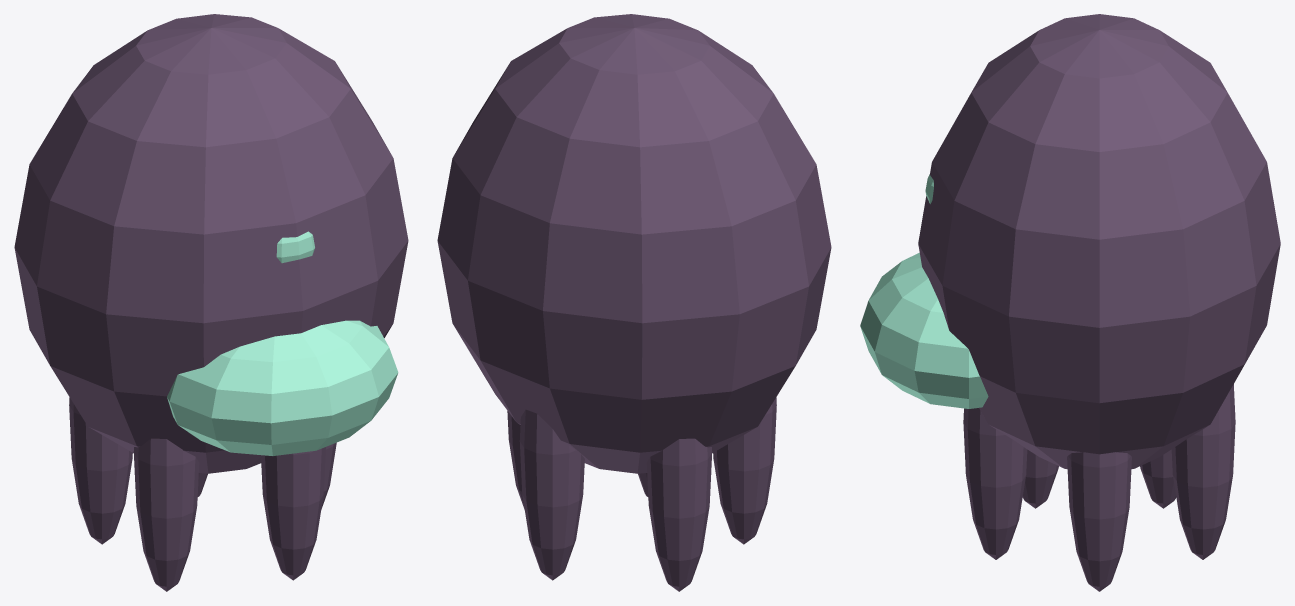
File: Spitter.fbx
The picture shows the model from 3 angles, left to right: view 1: azimuth 30°, elevation 25°; view 2: azimuth 150°, elevation 25°; view 3: azimuth 270°, elevation 25°; orthographic projection.
Visible parts, largest first — view 1: Core, Maw, Tent3M, Tent4M, Tent2M, EyeT; view 2: Core, Tent1M, Tent2M, Tent3M, Tent0M; view 3: Core, Maw, Tent0M, Tent1M, Tent4M, Tent3M, Tent2M.
Boxes of the visible parts, left/top/right/bottom form: Core: left=14, top=14, right=408, bottom=473; Maw: left=167, top=320, right=398, bottom=455; Tent3M: left=133, top=438, right=199, bottom=591; Tent4M: left=261, top=447, right=325, bottom=580; Tent2M: left=69, top=397, right=132, bottom=544; EyeT: left=276, top=231, right=314, bottom=263; Core: left=437, top=14, right=831, bottom=473; Tent1M: left=519, top=409, right=584, bottom=580; Tent2M: left=646, top=438, right=712, bottom=591; Tent3M: left=713, top=397, right=776, bottom=544; Tent0M: left=507, top=411, right=524, bottom=509; Core: left=918, top=14, right=1280, bottom=469; Maw: left=860, top=253, right=988, bottom=408; Tent0M: left=1067, top=452, right=1131, bottom=591; Tent1M: left=1171, top=384, right=1235, bottom=559; Tent4M: left=963, top=408, right=1027, bottom=559; Tent3M: left=1022, top=449, right=1058, bottom=508; Tent2M: left=1140, top=449, right=1176, bottom=508.
Bounding box in the file's own units: 110 × 157 × 116.
